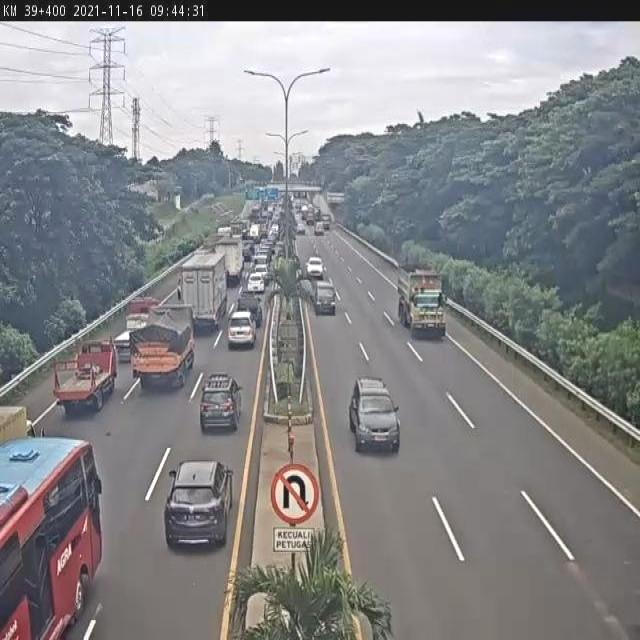Bus: (0, 437, 104, 640)
Car: (162, 456, 234, 552), (348, 377, 400, 454), (199, 372, 243, 432), (246, 272, 266, 294), (306, 256, 324, 279), (271, 200, 284, 227), (249, 224, 261, 242), (321, 214, 331, 230), (305, 208, 315, 224), (296, 222, 306, 235), (286, 194, 294, 209), (250, 206, 260, 218), (241, 228, 249, 240), (267, 204, 275, 215), (301, 205, 308, 216)
Truck: (52, 333, 118, 414), (179, 250, 229, 332), (398, 267, 447, 339), (116, 297, 162, 360)
